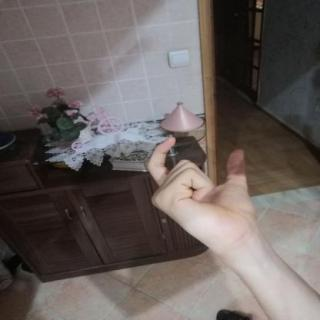NOON: (132, 130, 266, 258)
